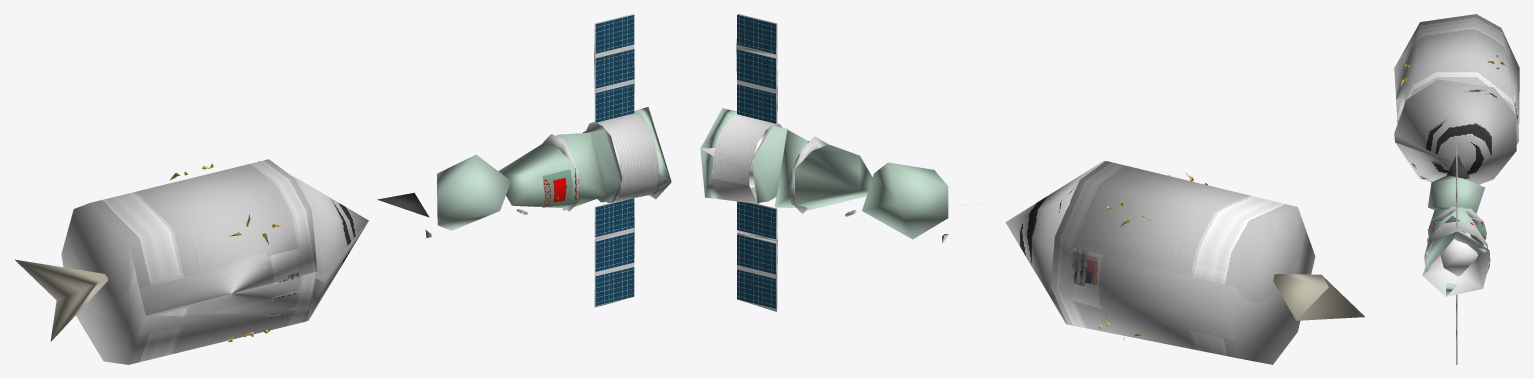
Rendered from apollo-soyuz.glb.
The picture shows the model from 3 angles, left to right: view 1: azimuth 30°, elevation 25°; view 2: azimuth 150°, elevation 25°; view 3: azimuth 270°, elevation 25°; orthographic projection. The views are drawn at different scales.
Visible parts, largest first — view 1: polySurfac; view 2: polySurfac; view 3: polySurfac.
Part boxes in pixels (x1=…): polySurfac: x1=15, y1=14, x2=671, y2=364; polySurfac: x1=700, y1=14, x2=1364, y2=364; polySurfac: x1=1394, y1=14, x2=1519, y2=364.
Bounding box in the file's own units: 21.65 × 9.54 × 5.12.
Materials: 8 (8 with a texture image).
